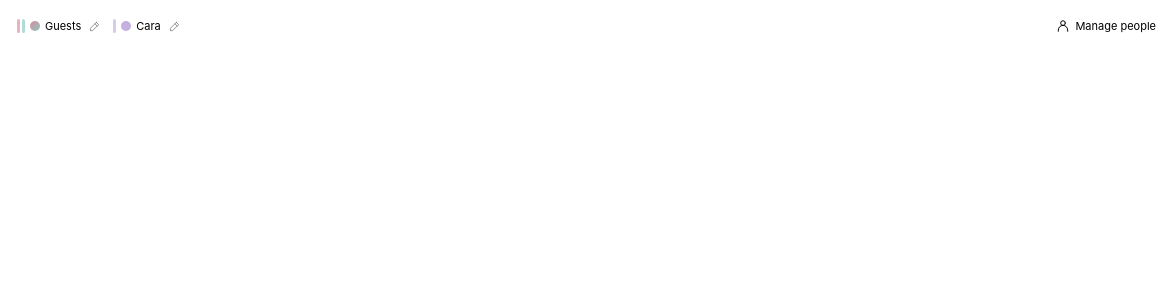
Test case: management tree shows each person once with associated children collapsed
The width and height of the screenshot is (1176, 289).
Click the button "Manage people": (1106, 26) [1048, 12, 1164, 40]
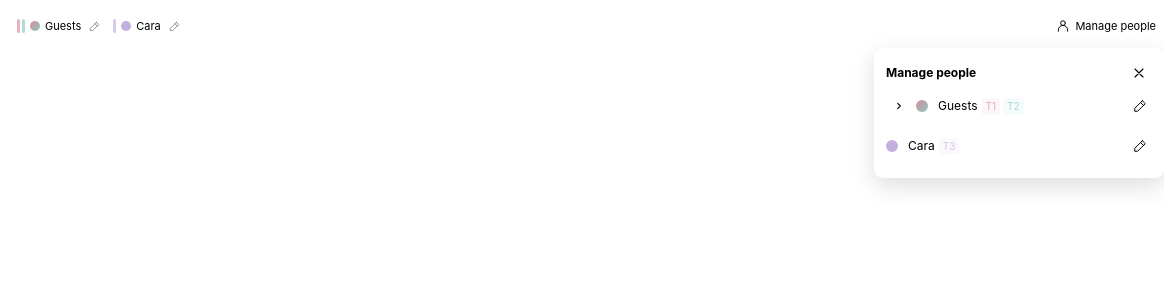
Expected: the text "Alice" is not shown
Click the button named "Expand Guests": (899, 106) [886, 93, 912, 119]
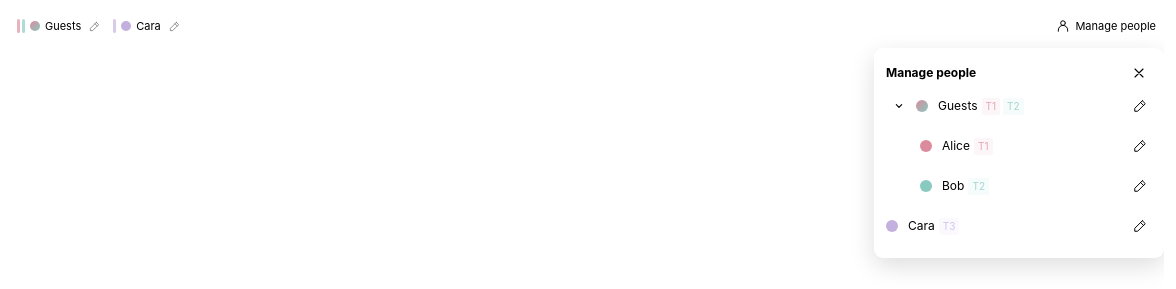
Result: the text "Alice" is shown once at [942, 138, 992, 155]
Result: the text "Cara" is shown once at [908, 218, 959, 235]
